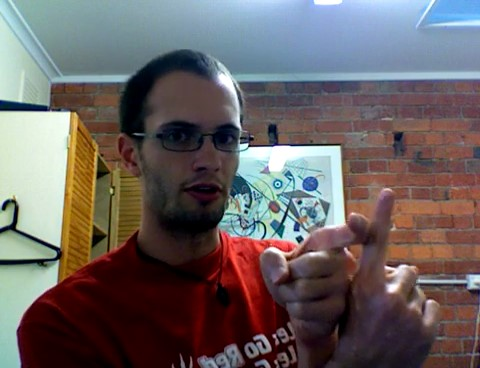K: (244, 179, 446, 368)
